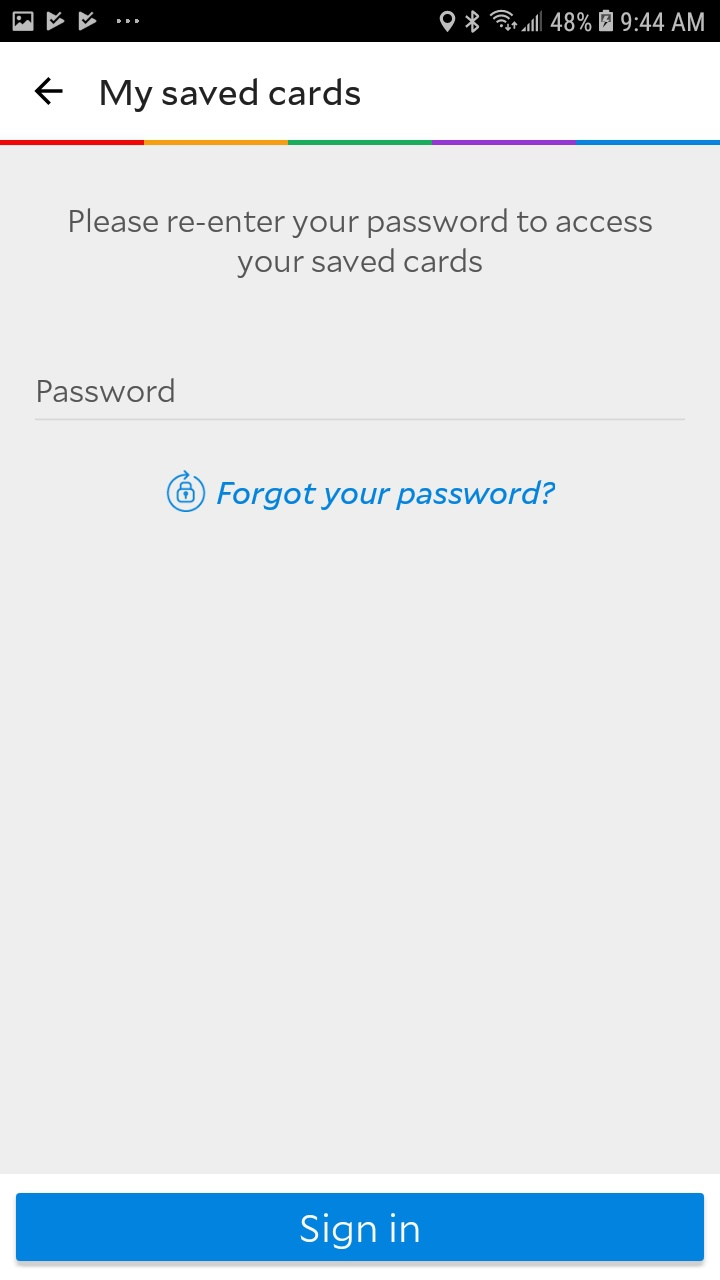EditText: (35, 378, 686, 422)
Icon: (167, 470, 207, 513), (35, 77, 65, 106)
Text: (70, 208, 653, 279), (217, 479, 556, 511), (101, 79, 361, 114), (38, 378, 176, 404)
TextButton: (16, 1193, 704, 1262)
UpperTaskBar: (1, 1, 720, 43)
